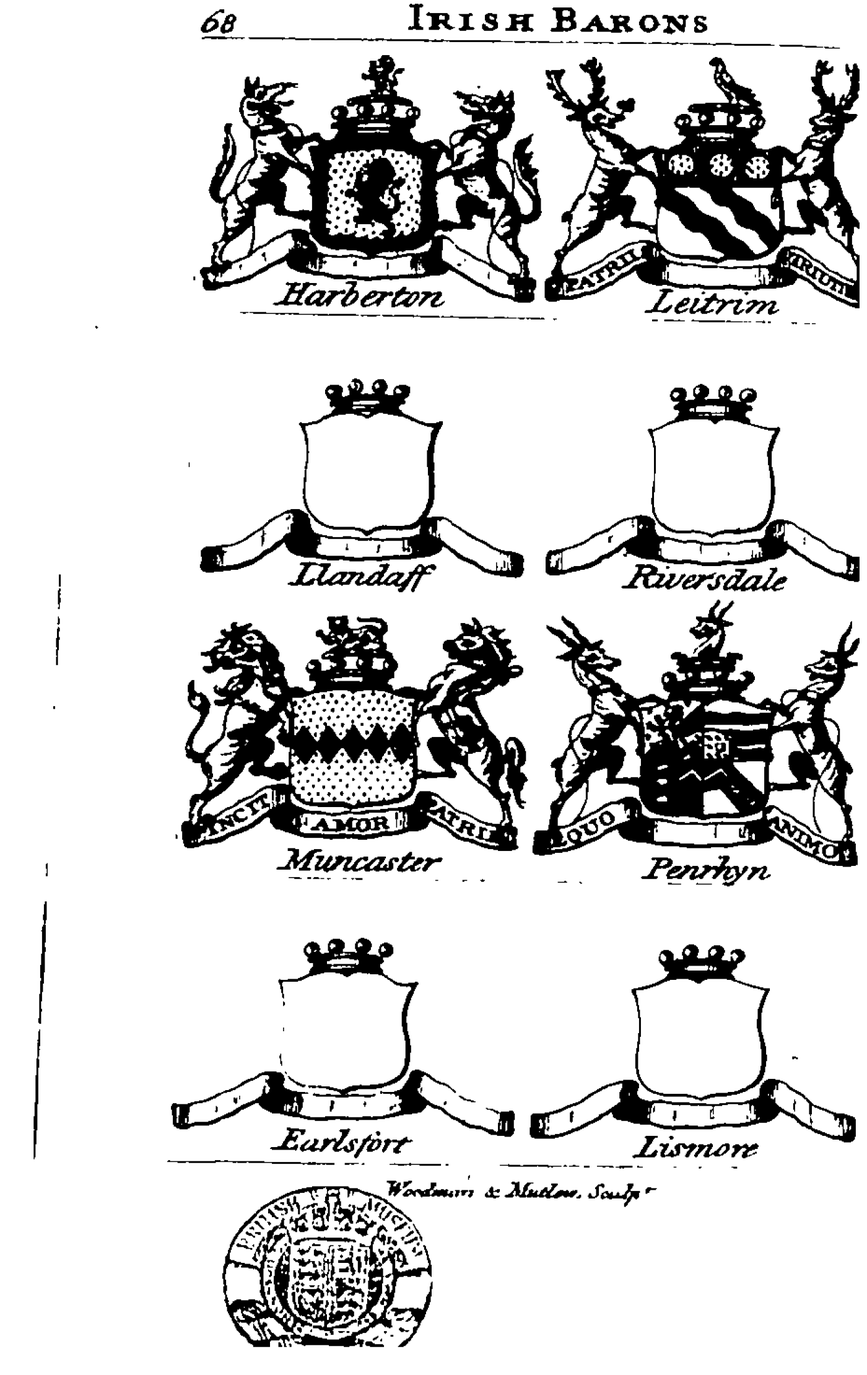coat_of_arms: (167, 594, 528, 881), (184, 40, 539, 327), (172, 338, 536, 604), (168, 894, 521, 1167), (531, 318, 867, 602), (537, 607, 860, 892), (538, 46, 857, 323), (531, 905, 867, 1164)
